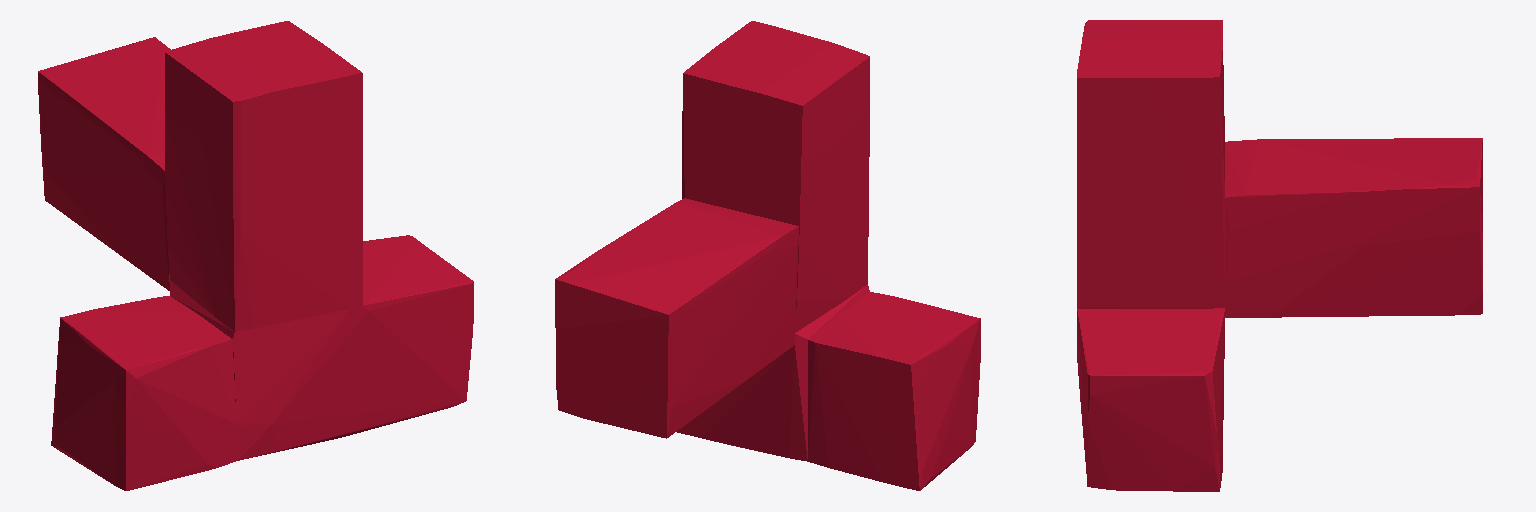
URDF robot description (blob255):
<robot name="blob255">
  <link name="random_obj_255">
    <contact>
      <lateral_friction value="1.0"/>
      <rolling_friction value="0.0"/>
      <inertia_scaling value="3.0"/>
      <contact_cfm value="0.0"/>
      <contact_erp value="1.0"/>
    </contact>
    <inertial>
      <origin rpy="0 0 0" xyz="0 0 0"/>
      <mass value="0.1"/>
      <inertia ixx="1" ixy="0" ixz="0" iyy="1" iyz="0" izz="0"/>
    </inertial>
    <visual>
      <origin rpy="0 0 0" xyz="0 0 0"/>
      <geometry>
        <mesh filename="255.obj" scale="0.015 0.015 0.015"/>
      </geometry>
      <material name="blockmat">
        <color rgba="0.78 0.12 0.25 1"/>
      </material>
    </visual>
    <collision>
      <origin rpy="0 0 0" xyz="0 0 0"/>
      <geometry>
        <mesh filename="255.obj" scale="0.015 0.015 0.015"/>
      </geometry>
    </collision>
  </link>
</robot>

--- Facts derived from the render (not from the file) ---
3 views of the same robot in one strip: view 1: azimuth 30°, elevation 25°; view 2: azimuth 150°, elevation 25°; view 3: azimuth 270°, elevation 25° (orthographic).
Model blob255 with 1 links and 0 joints (none), rooted at random_obj_255, posed all joints at 0.
Links seen in each view (by area): view 1: random_obj_255; view 2: random_obj_255; view 3: random_obj_255.
Link boxes in pixels (box(x1,y1,x2,y2)): random_obj_255: box(38, 21, 473, 490); random_obj_255: box(555, 21, 980, 490); random_obj_255: box(1077, 20, 1482, 491).
Bounding box of the posed robot: 0.0932 × 0.092 × 0.0908 m (x, y, z).
Meshes: 1 distinct files referenced, 1 mesh visuals loaded (1 OBJ).